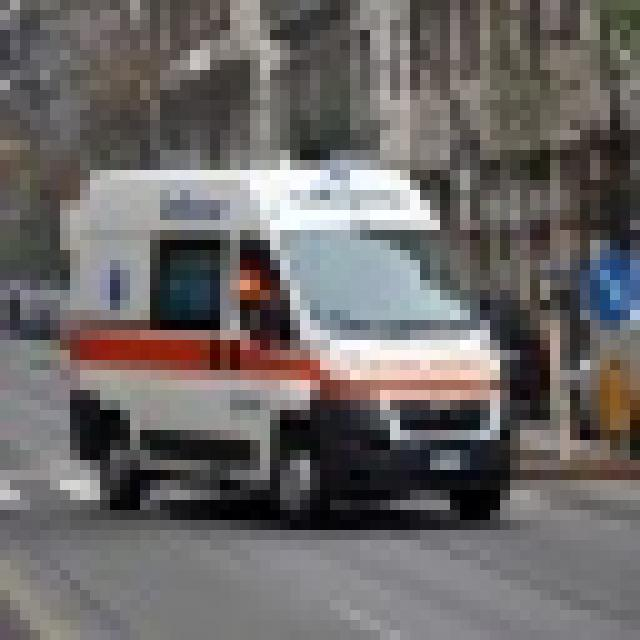ambulance: (50, 150, 510, 520)
